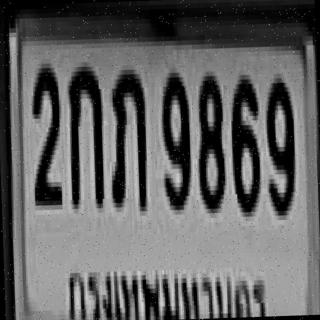A01: (65, 62, 103, 205)
A32: (106, 64, 146, 208)
N02: (28, 61, 61, 203)
N06: (228, 70, 260, 212)
N08: (194, 71, 224, 209)
N09: (158, 68, 190, 206), (263, 73, 295, 211)
P04: (62, 252, 274, 320)
